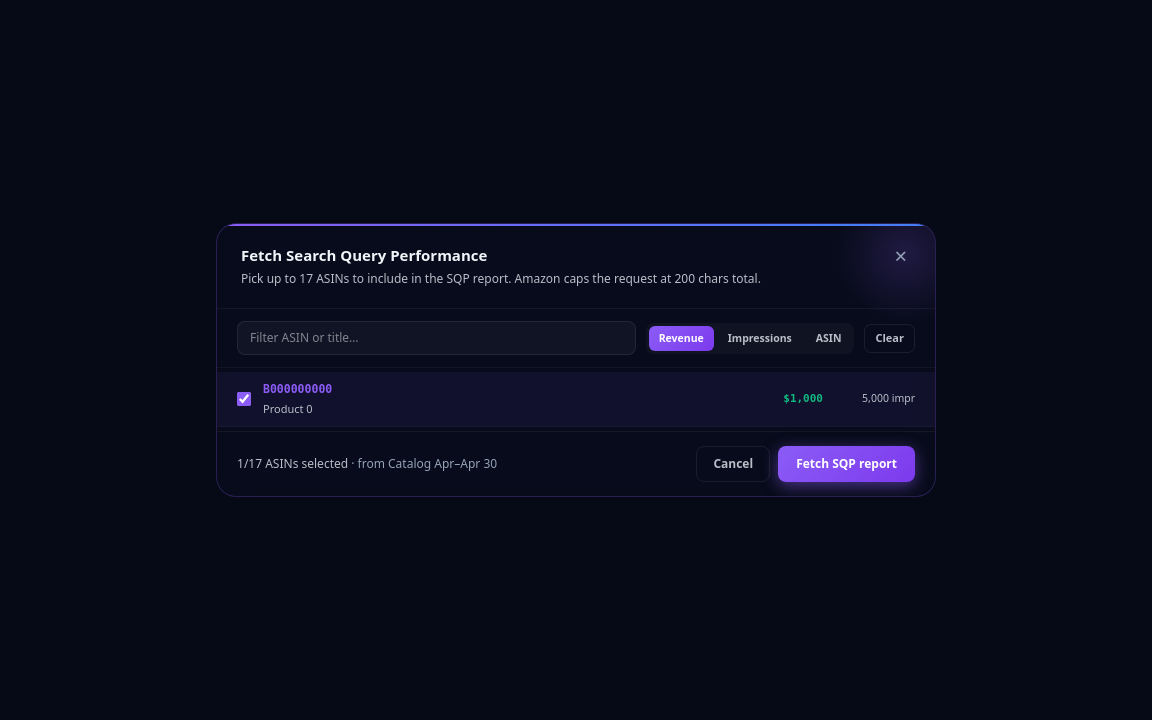
SqpFetchModal — fetch submission › disables submit when no ASINs are selected
This screenshot has width=1152, height=720.
Click the button "Clear": coordinates (890, 338) [864,324,915,353]
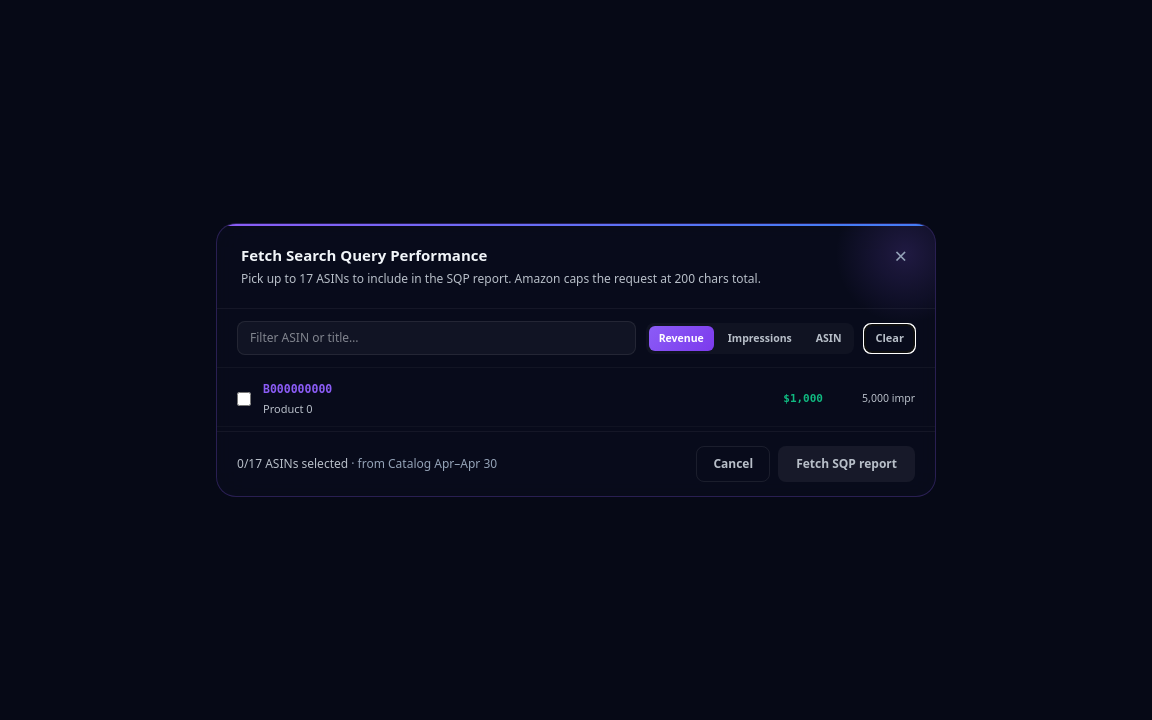
Expected: the button "Fetch SQP report" is disabled, [778,446,915,482]
